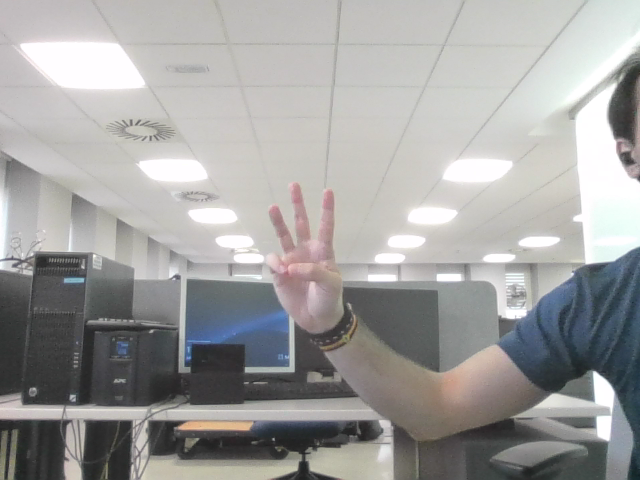3Dedos: (274, 194, 329, 299)
